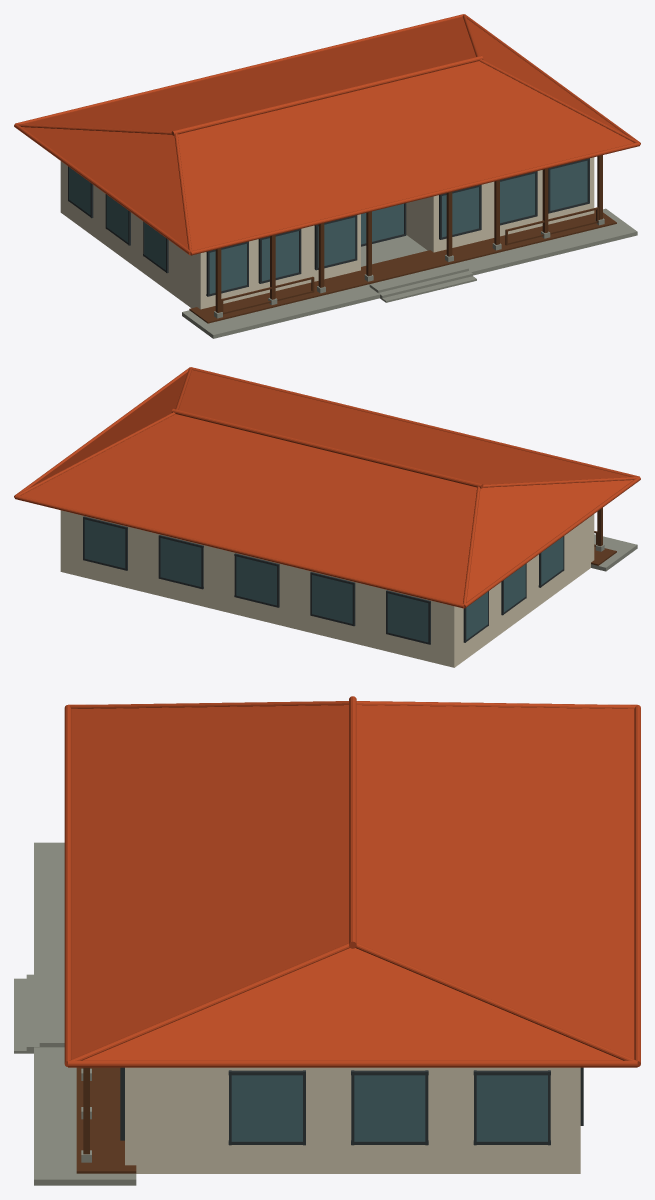
File: H01-proposal-v1-LOD1.glb
3 renders of one model, top to bottom at view 1: azimuth 30°, elevation 25°; view 2: azimuth 150°, elevation 25°; view 3: azimuth 270°, elevation 25°, orthographic. The views are drawn at different scales.
Parts seen in each view (by area): view 1: H01_proposed_exterior_LOD1; view 2: H01_proposed_exterior_LOD1; view 3: H01_proposed_exterior_LOD1.
Part boxes in pixels (x1,y1,x2,y2): H01_proposed_exterior_LOD1: (14, 14, 640, 338); H01_proposed_exterior_LOD1: (14, 367, 640, 667); H01_proposed_exterior_LOD1: (14, 696, 640, 1185).
Bounding box in the file's own units: 29.84 × 7.7 × 22.02.
